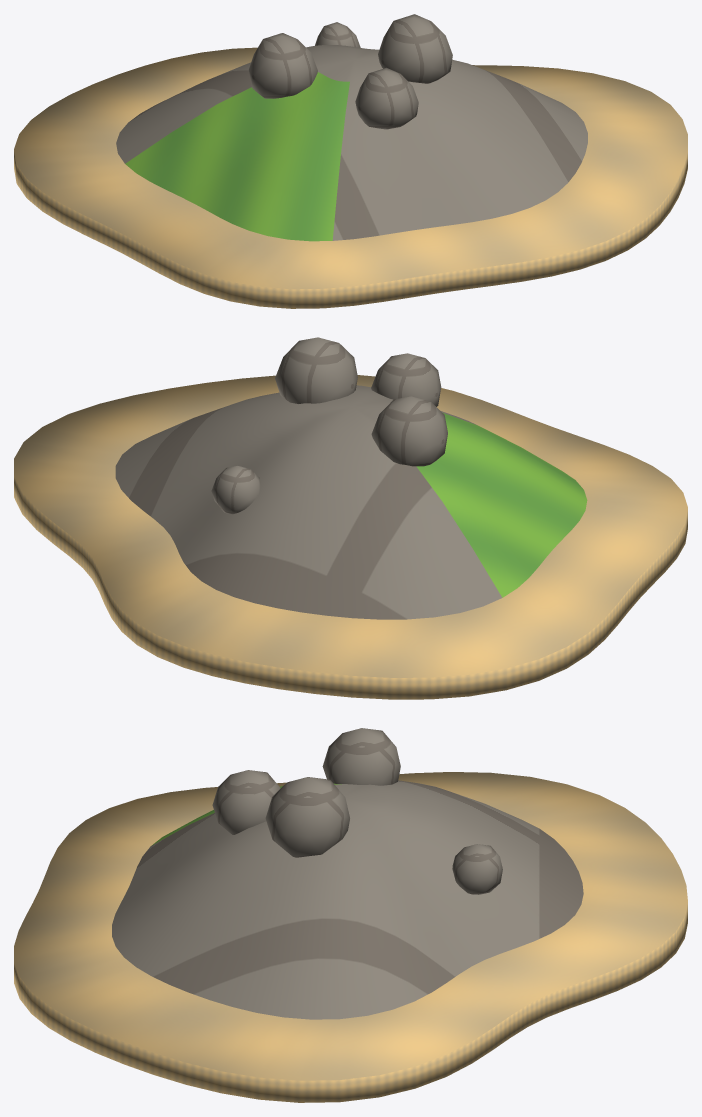
Rendered from ISL-S_LOD0.fbx.
3 renders of one model, top to bottom at view 1: azimuth 30°, elevation 25°; view 2: azimuth 150°, elevation 25°; view 3: azimuth 270°, elevation 25°, orthographic. The views are drawn at different scales.
Visible parts, largest first — view 1: ISL-S_LOD0_Assembled; view 2: ISL-S_LOD0_Assembled; view 3: ISL-S_LOD0_Assembled.
Part boxes in pixels (left/top/right/bottom): ISL-S_LOD0_Assembled: left=14, top=14, right=687, bottom=308; ISL-S_LOD0_Assembled: left=14, top=337, right=687, bottom=699; ISL-S_LOD0_Assembled: left=14, top=728, right=687, bottom=1102.
Size of the model in its own units: 44.87 by 41.38 by 12.63.
Materials: 3 (3 with a texture image).
